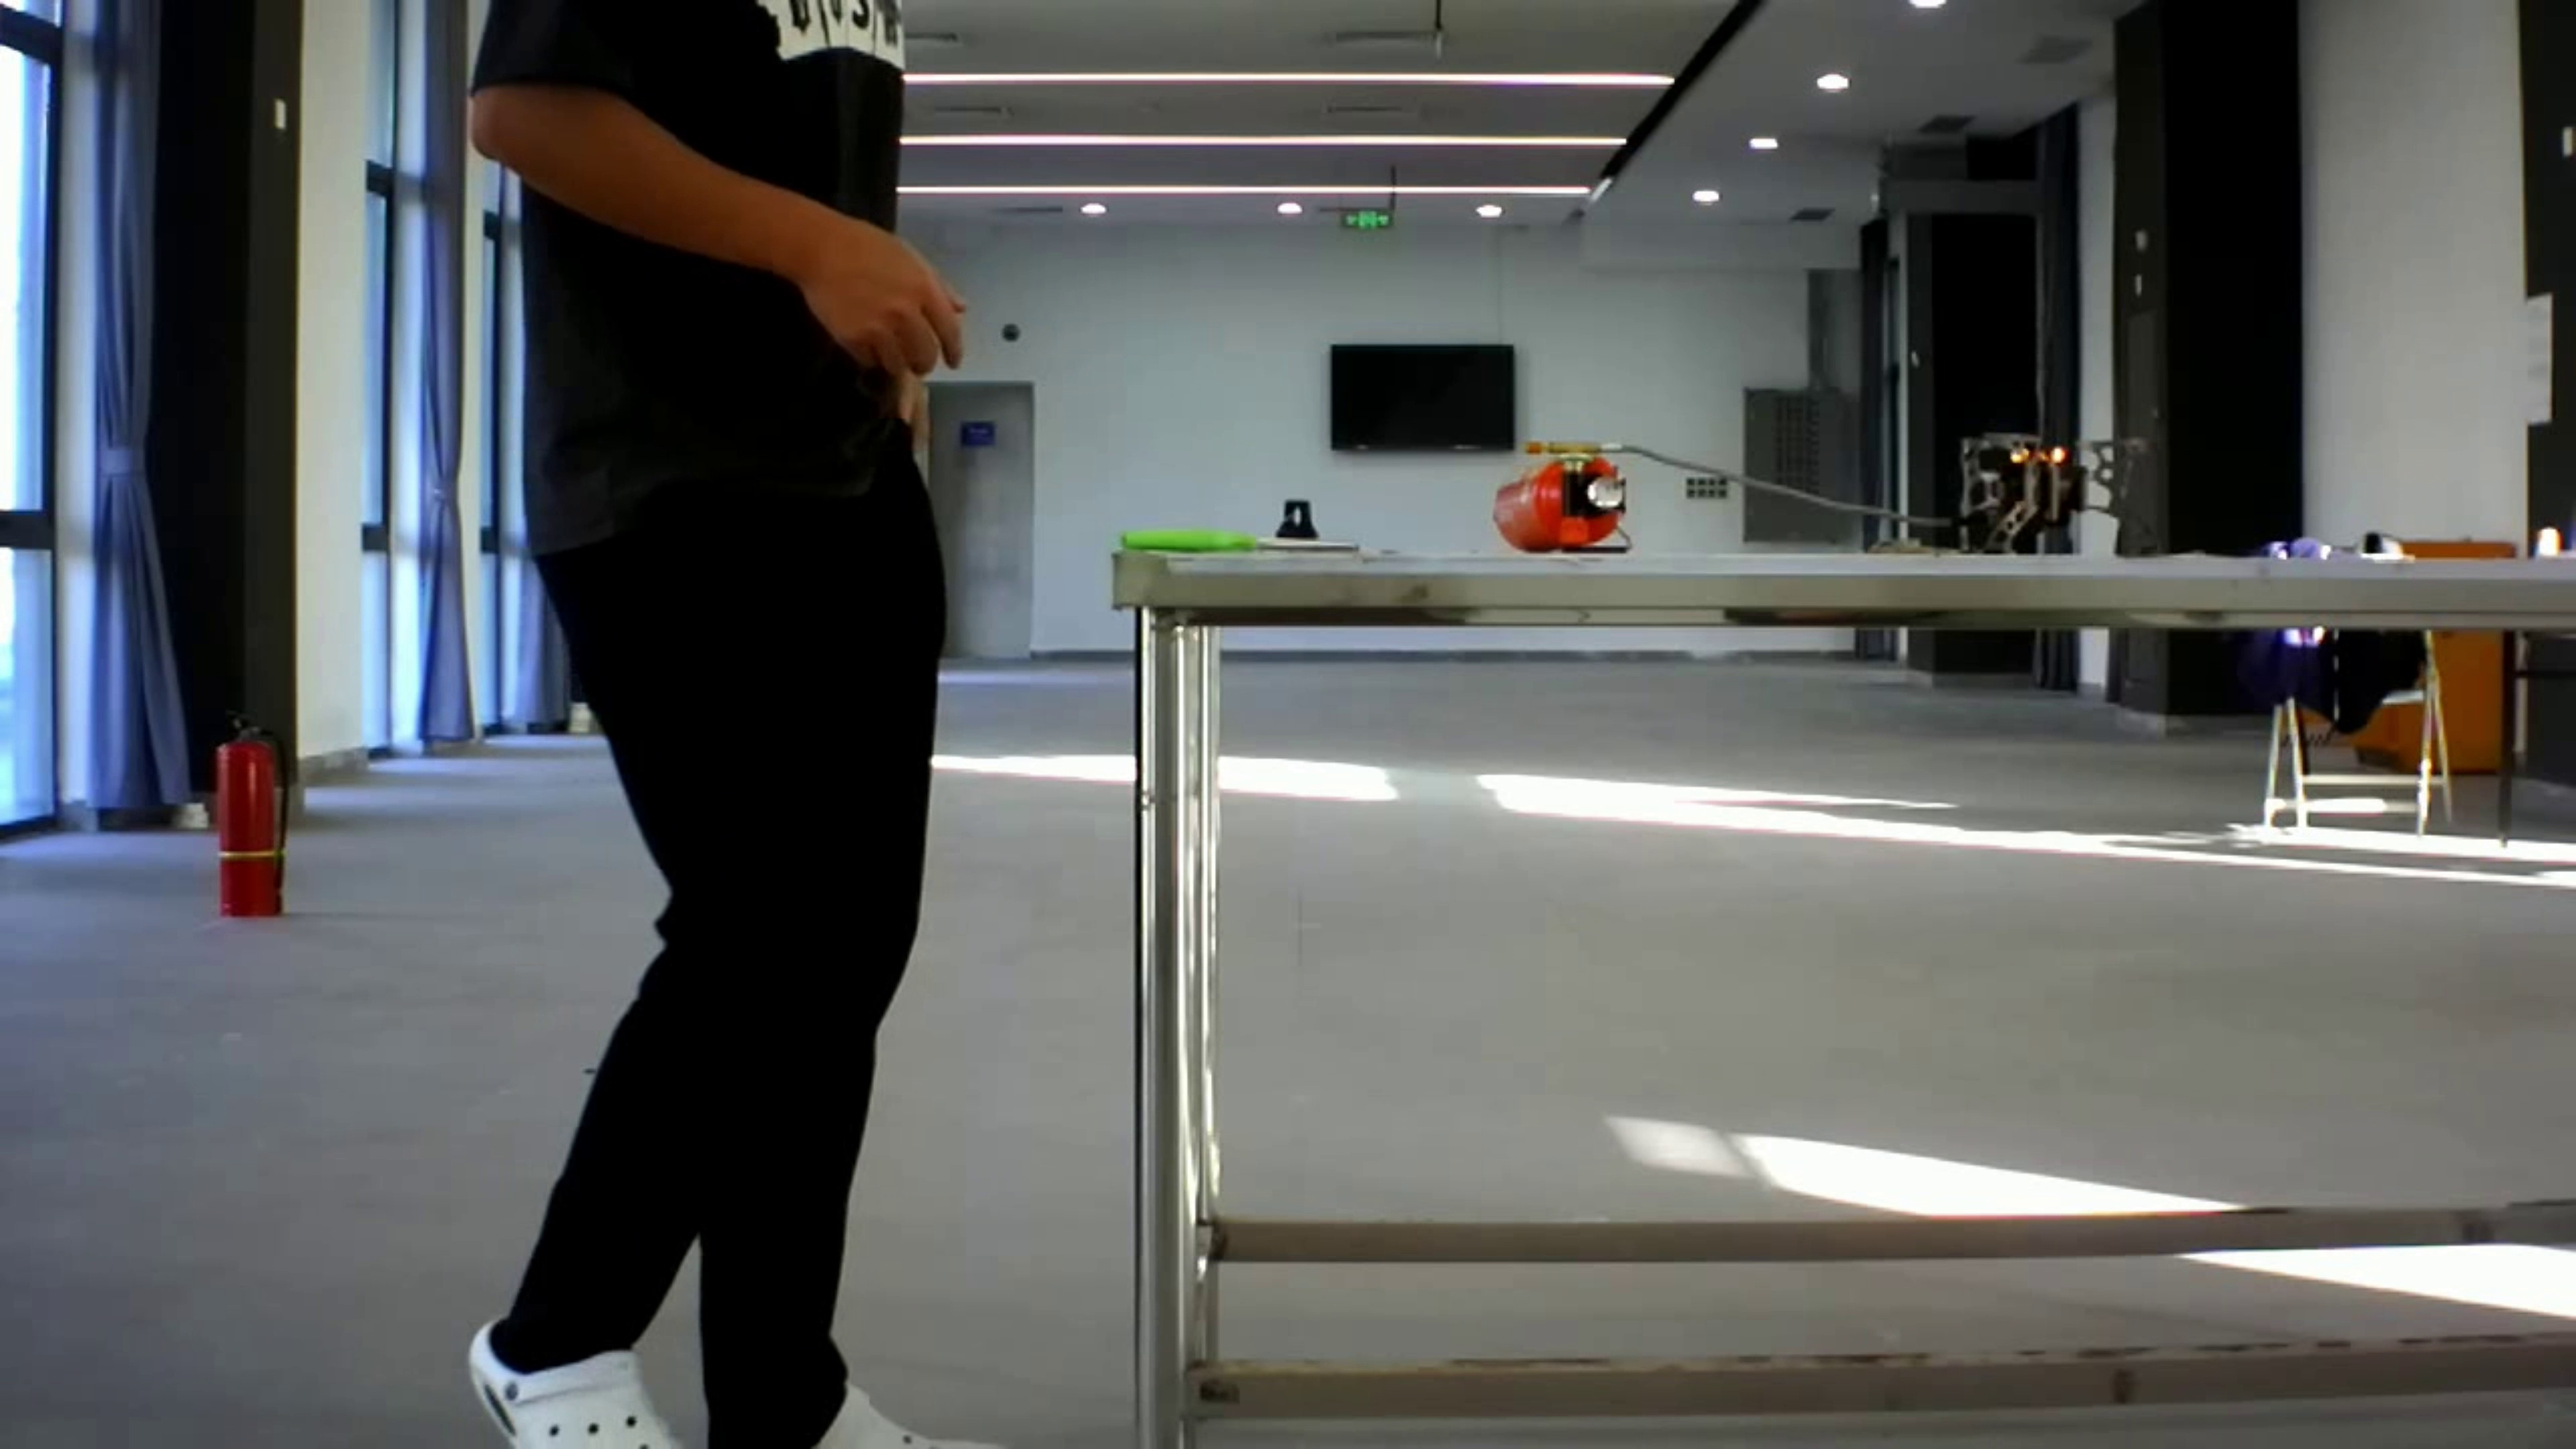Fire: (2010, 421, 2075, 474)
